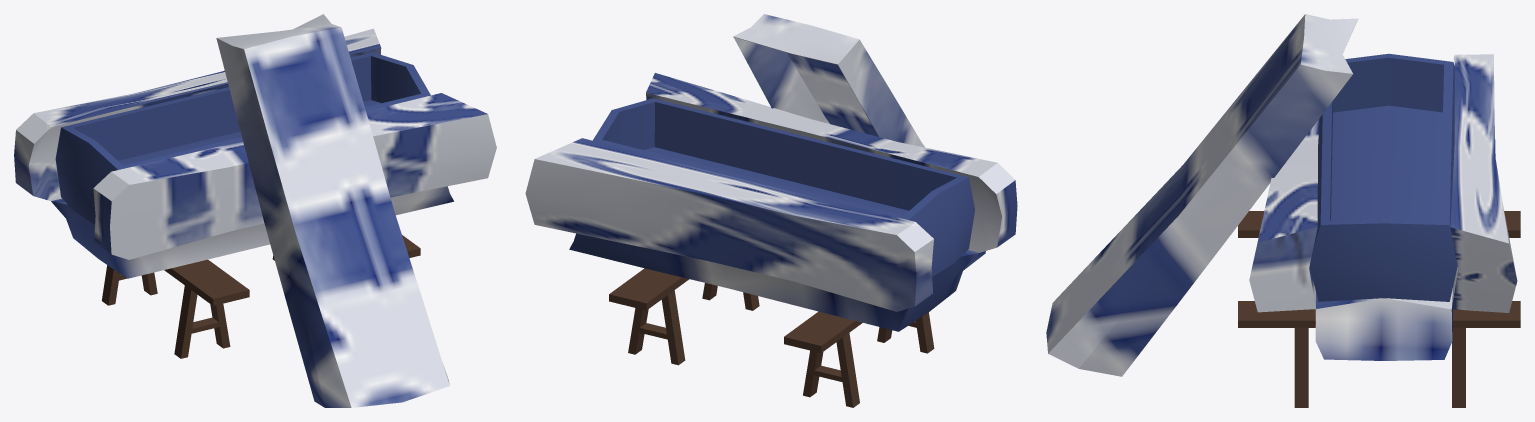
The model's file is coffin open.fbx.
3 views of the same model, side by side, from view 1: azimuth 30°, elevation 25°; view 2: azimuth 150°, elevation 25°; view 3: azimuth 270°, elevation 25° (orthographic). The views are drawn at different scales.
Parts seen in each view (by area): view 1: coffin.001; view 2: coffin.001; view 3: coffin.001.
Part boxes in pixels (left/top/right/bottom): coffin.001: left=14, top=14, right=496, bottom=407; coffin.001: left=525, top=14, right=1017, bottom=407; coffin.001: left=1046, top=14, right=1520, bottom=407.
Bounding box in the file's own units: 6.58 × 4.9 × 6.69.
